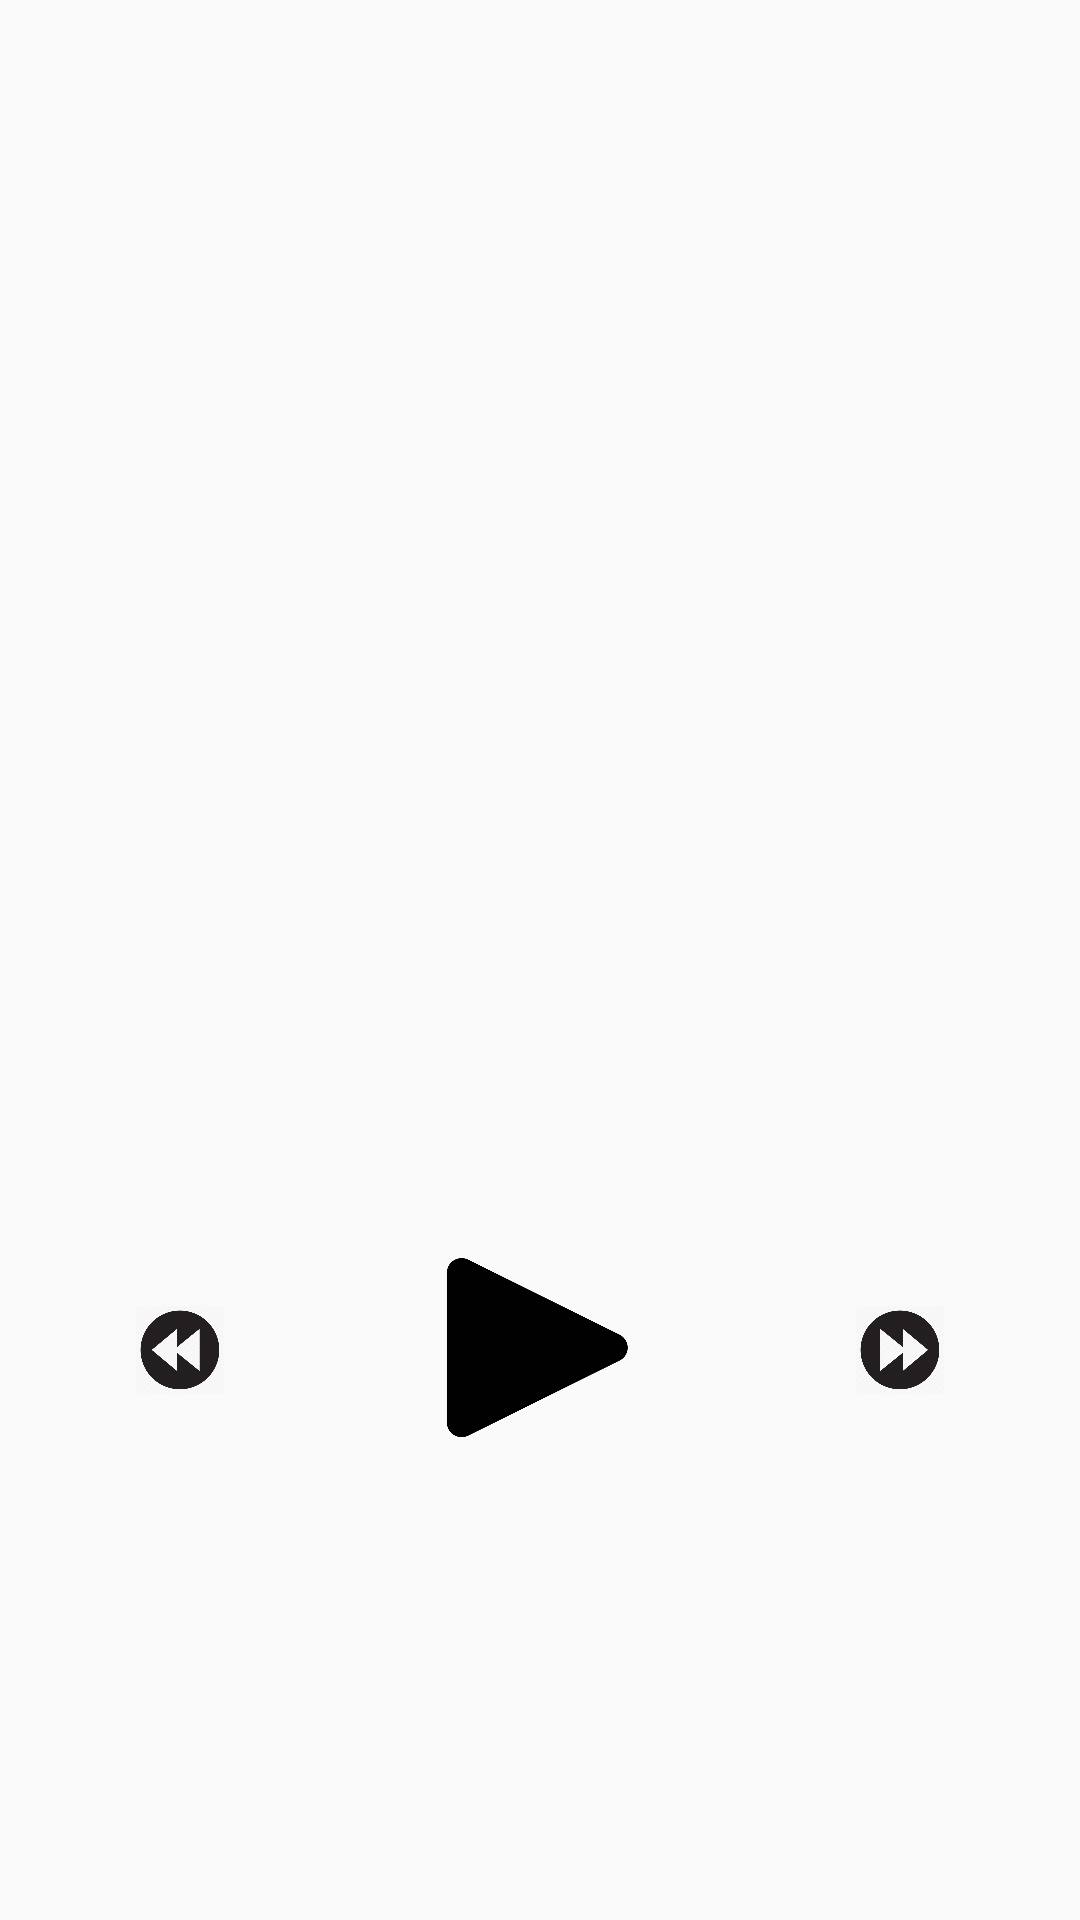

Where to tap for icons on this 1080x1920 app screen, as (x=x, y=y):
next: (x=899, y=1349)
prev: (x=179, y=1349)
stop and play: (x=537, y=1347)
